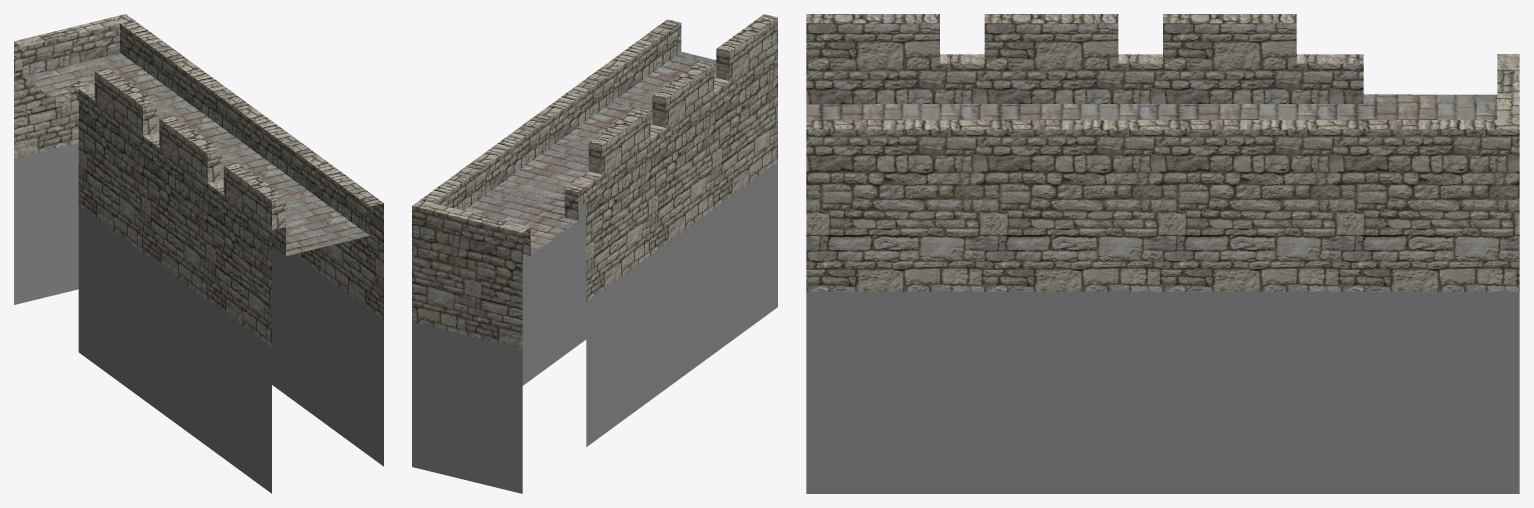
The model's file is WallCorner.fbx.
The picture shows the model from 3 angles, left to right: view 1: azimuth 30°, elevation 25°; view 2: azimuth 150°, elevation 25°; view 3: azimuth 270°, elevation 25°; orthographic projection. The views are drawn at different scales.
Parts seen in each view (by area): view 1: Object_wall_bottom_mud.jpg1; view 2: Object_wall_bottom_mud.jpg1; view 3: Object_wall_bottom_mud.jpg1.
Part boxes in pixels (bbox=[...]): Object_wall_bottom_mud.jpg1: bbox=[14, 14, 383, 493]; Object_wall_bottom_mud.jpg1: bbox=[412, 14, 777, 493]; Object_wall_bottom_mud.jpg1: bbox=[806, 14, 1519, 493].
Size of the model in its own units: 0.625 by 1.57 by 2.5.
